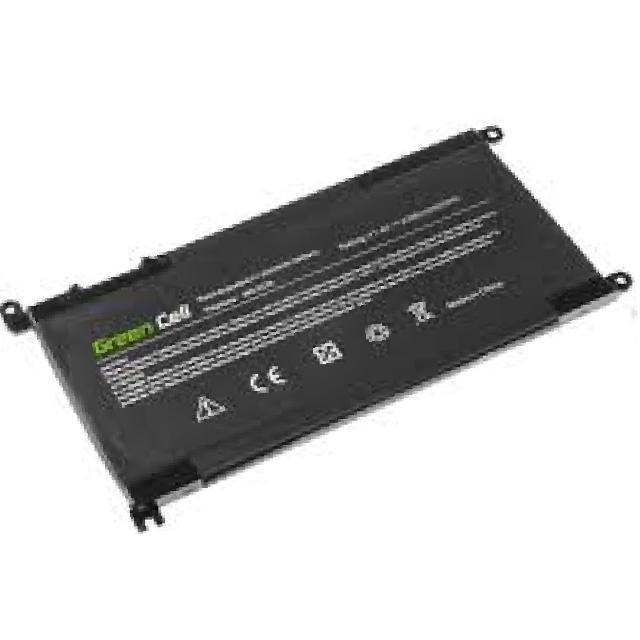Battery: (3, 98, 640, 539)
